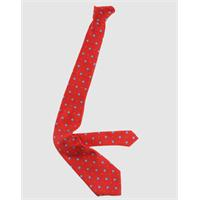tie: (54, 4, 139, 196)
